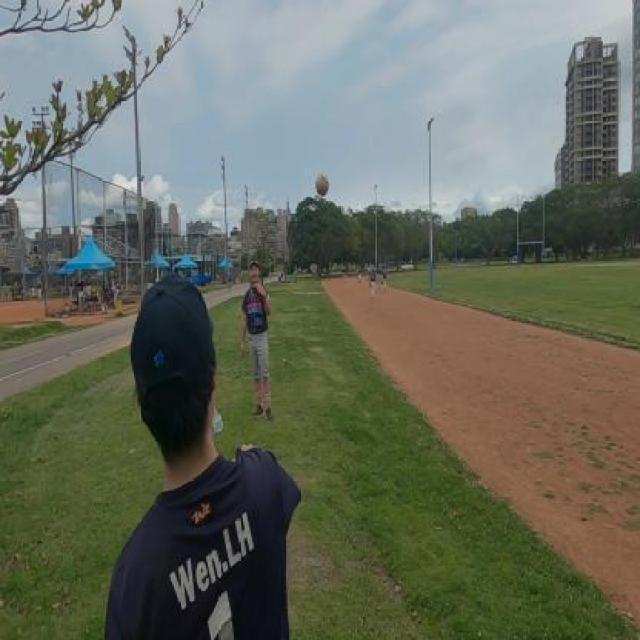ball: (312, 174, 333, 198)
